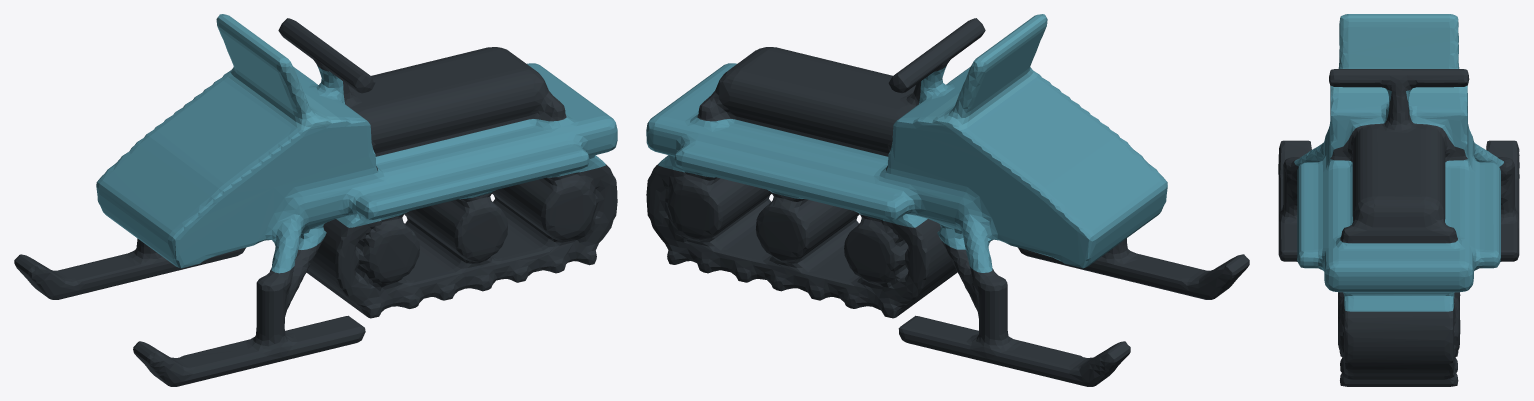
File: NEW_RECOVERY_111_LOD0.glb
3 views of the same model, side by side, from view 1: azimuth 30°, elevation 25°; view 2: azimuth 150°, elevation 25°; view 3: azimuth 270°, elevation 25° (orthographic). The views are drawn at different scales.
Parts seen in each view (by area): view 1: Snowmobile_Static_Fused; view 2: Snowmobile_Static_Fused; view 3: Snowmobile_Static_Fused.
Boxes of the visible parts, x1,y1,x2,y2 form: Snowmobile_Static_Fused: [14, 14, 617, 386]; Snowmobile_Static_Fused: [646, 14, 1249, 386]; Snowmobile_Static_Fused: [1278, 14, 1519, 386].
Size of the model in its own units: 3.33 by 1.75 by 1.58.
